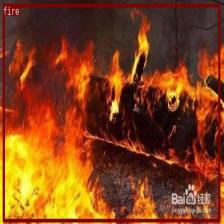fire: (2, 3, 220, 221)
